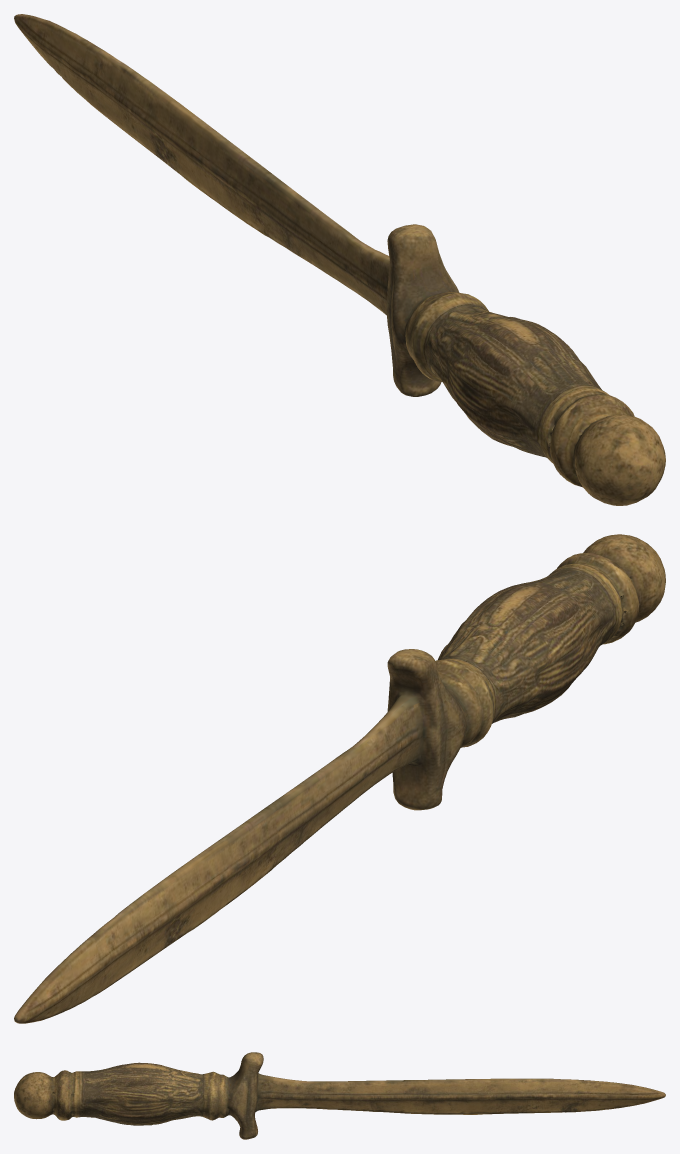
The model's file is letter-opener.glb.
The picture shows the model from 3 angles, top to bottom: view 1: azimuth 30°, elevation 25°; view 2: azimuth 150°, elevation 25°; view 3: azimuth 270°, elevation 25°; orthographic projection. The views are drawn at different scales.
Parts seen in each view (by area): view 1: Mesh_0; view 2: Mesh_0; view 3: Mesh_0.
Part boxes in pixels (<box>): Mesh_0: <box>14,14,665,505</box>; Mesh_0: <box>14,534,665,1023</box>; Mesh_0: <box>14,1052,665,1139</box>.
Size of the model in its own units: 0.0237 by 0.035 by 0.25.
1 material, 1 textured.
